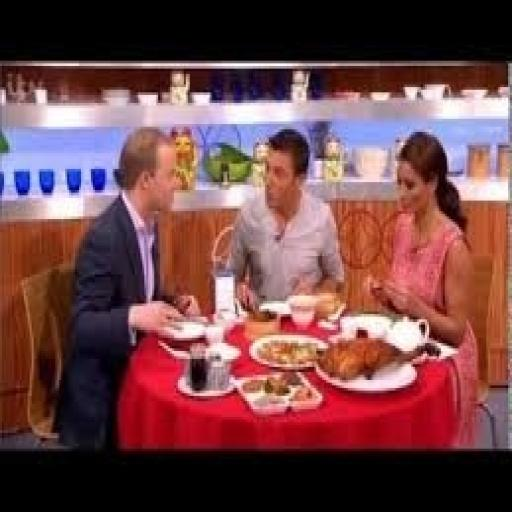eating: (54, 116, 482, 449)
